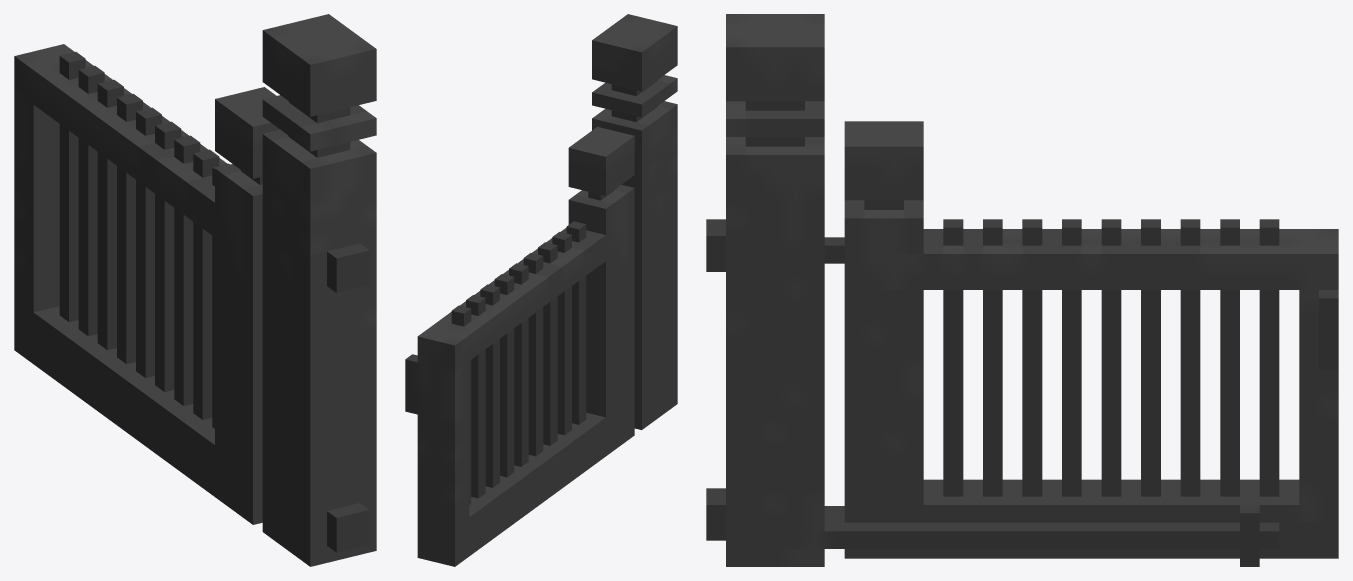
Rendered from fence1.fbx.
3 renders of one model, left to right at view 1: azimuth 30°, elevation 25°; view 2: azimuth 150°, elevation 25°; view 3: azimuth 270°, elevation 25°, orthographic. The views are drawn at different scales.
Parts seen in each view (by area): view 1: fence1; view 2: fence1; view 3: fence1.
Boxes of the visible parts, x1,y1,x2,y2 form: fence1: (14, 14, 376, 566); fence1: (405, 14, 677, 566); fence1: (706, 14, 1338, 566).
Bounding box in the file's own units: 4 × 29 × 32.
1 material, 1 textured.
